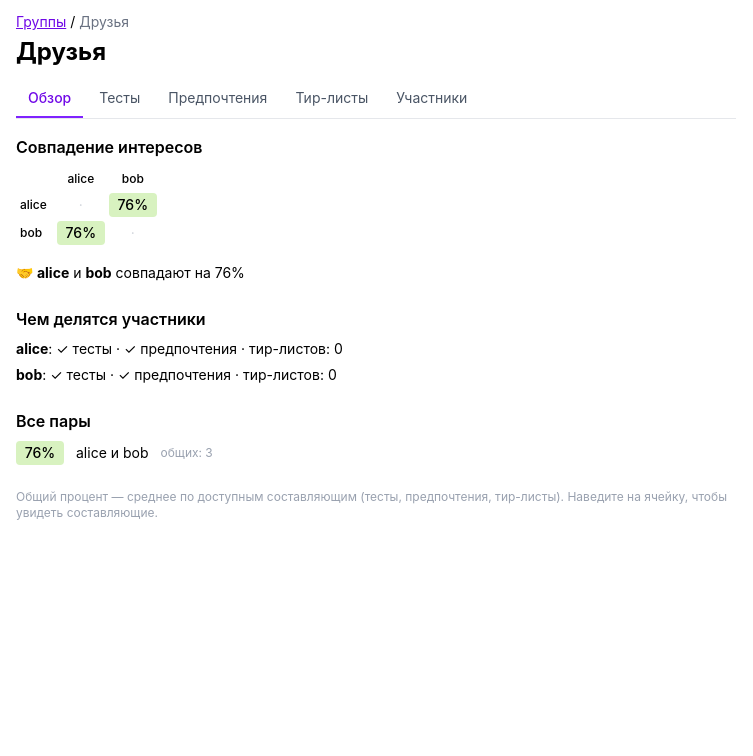
Test: GroupPage (дымовая проверка) › владелец: может пригласить друга (только тех, кого нет в группе) и управлять группой
Click the button "Участники". click: (432, 99)
box: [384,80,479,118]
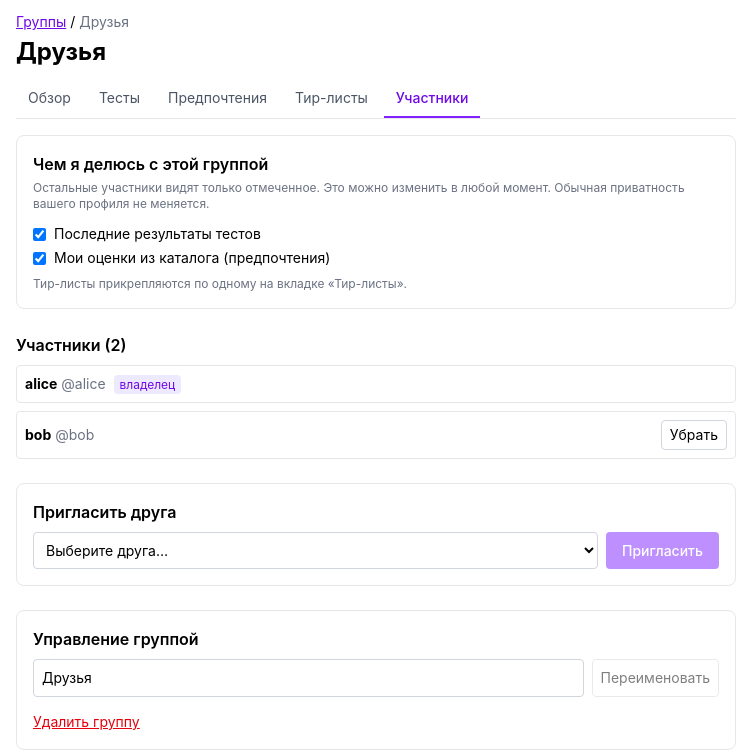
Check: the heading "Пригласить друга" is shown, box [33,502,176,522]
Check: the button "Удалить группу" is shown, box [33,712,140,732]
